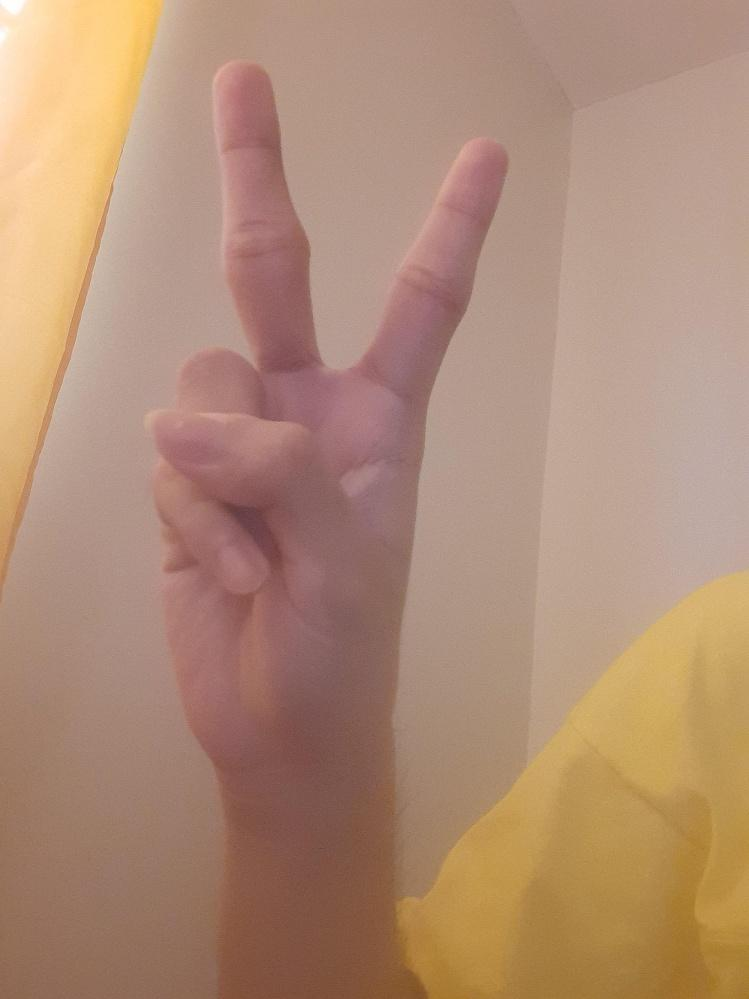v: (146, 60, 510, 733)
